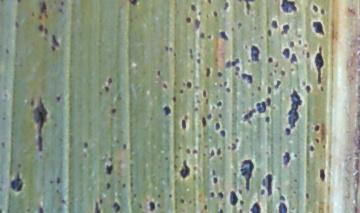tarspot: (35, 93, 47, 151), (288, 91, 301, 128), (241, 161, 254, 190), (315, 48, 324, 85), (10, 173, 24, 193), (262, 173, 273, 196), (179, 159, 191, 179), (311, 19, 325, 36), (242, 109, 256, 123), (280, 1, 296, 13), (250, 45, 260, 63), (240, 72, 253, 85), (244, 1, 255, 15), (229, 191, 239, 206), (257, 101, 266, 114), (219, 30, 229, 41), (251, 202, 261, 213), (283, 151, 290, 166), (52, 34, 60, 47), (282, 46, 290, 59), (278, 202, 287, 213), (39, 1, 47, 13), (281, 23, 289, 35), (106, 164, 114, 175), (189, 3, 197, 13), (232, 58, 240, 68), (290, 53, 298, 63), (181, 117, 187, 130), (149, 200, 156, 211), (194, 18, 200, 30), (266, 56, 274, 65), (95, 201, 101, 213), (164, 105, 171, 115), (320, 168, 325, 182), (113, 203, 120, 213), (306, 83, 312, 94), (275, 80, 282, 89), (201, 117, 207, 127), (223, 2, 229, 12), (266, 85, 272, 95), (199, 31, 206, 39), (219, 130, 226, 138), (264, 116, 271, 124), (311, 5, 318, 13), (196, 132, 203, 140), (288, 66, 296, 73), (189, 48, 194, 59), (39, 24, 45, 33), (215, 122, 221, 131), (225, 60, 231, 69), (266, 98, 272, 107), (285, 127, 291, 136), (205, 67, 210, 77), (202, 89, 207, 99), (103, 86, 110, 93), (162, 82, 169, 89), (231, 143, 238, 150), (186, 16, 192, 24), (187, 81, 193, 89), (185, 147, 191, 155), (210, 150, 216, 158), (266, 29, 272, 37), (272, 21, 278, 29), (320, 8, 326, 16), (289, 40, 295, 48), (156, 68, 161, 77), (213, 9, 218, 18), (207, 113, 213, 120), (217, 100, 223, 107), (256, 85, 262, 92), (279, 195, 286, 201), (212, 177, 218, 184), (121, 182, 127, 189), (122, 142, 127, 150), (172, 95, 177, 103), (218, 112, 223, 120), (217, 148, 222, 156), (315, 125, 320, 133), (310, 144, 315, 152), (108, 155, 113, 163), (56, 177, 61, 185), (51, 46, 57, 52), (44, 13, 50, 19), (111, 108, 117, 114), (217, 72, 223, 78), (305, 52, 311, 58), (239, 200, 245, 206), (44, 28, 49, 35), (1, 141, 6, 148), (83, 142, 88, 149), (197, 58, 202, 65), (261, 189, 266, 196), (163, 156, 170, 161), (15, 21, 19, 29), (31, 99, 35, 107), (107, 181, 111, 189), (60, 1, 65, 7), (56, 96, 61, 102), (108, 78, 113, 84), (218, 83, 223, 89), (235, 66, 241, 71), (298, 39, 303, 45), (319, 86, 324, 92), (315, 138, 320, 144), (238, 189, 243, 195), (219, 192, 224, 198), (203, 204, 208, 210), (180, 198, 185, 204), (39, 207, 44, 213), (61, 199, 67, 204), (138, 203, 143, 209), (259, 34, 264, 40), (6, 48, 10, 55), (131, 1, 138, 5), (224, 80, 228, 87), (238, 22, 242, 29), (281, 70, 285, 77), (211, 192, 215, 199), (212, 169, 216, 176), (31, 12, 36, 17), (59, 8, 64, 13), (196, 99, 201, 104), (194, 107, 199, 112), (239, 208, 244, 213), (168, 193, 173, 198), (194, 85, 199, 90), (175, 155, 180, 160), (198, 10, 202, 16), (180, 89, 184, 95), (194, 149, 198, 155), (226, 87, 230, 93), (275, 62, 279, 68), (157, 203, 161, 209), (99, 198, 103, 204), (18, 163, 22, 169), (133, 193, 137, 199), (306, 192, 309, 199), (38, 16, 43, 20), (165, 47, 169, 52), (208, 34, 212, 39), (208, 1, 212, 6), (183, 82, 187, 87), (231, 27, 235, 32), (235, 70, 239, 75), (235, 138, 239, 143), (270, 72, 274, 77), (303, 81, 307, 86), (219, 209, 224, 213), (157, 194, 161, 199), (293, 153, 297, 158), (304, 43, 308, 48), (17, 1, 22, 4), (1, 208, 3, 213)
